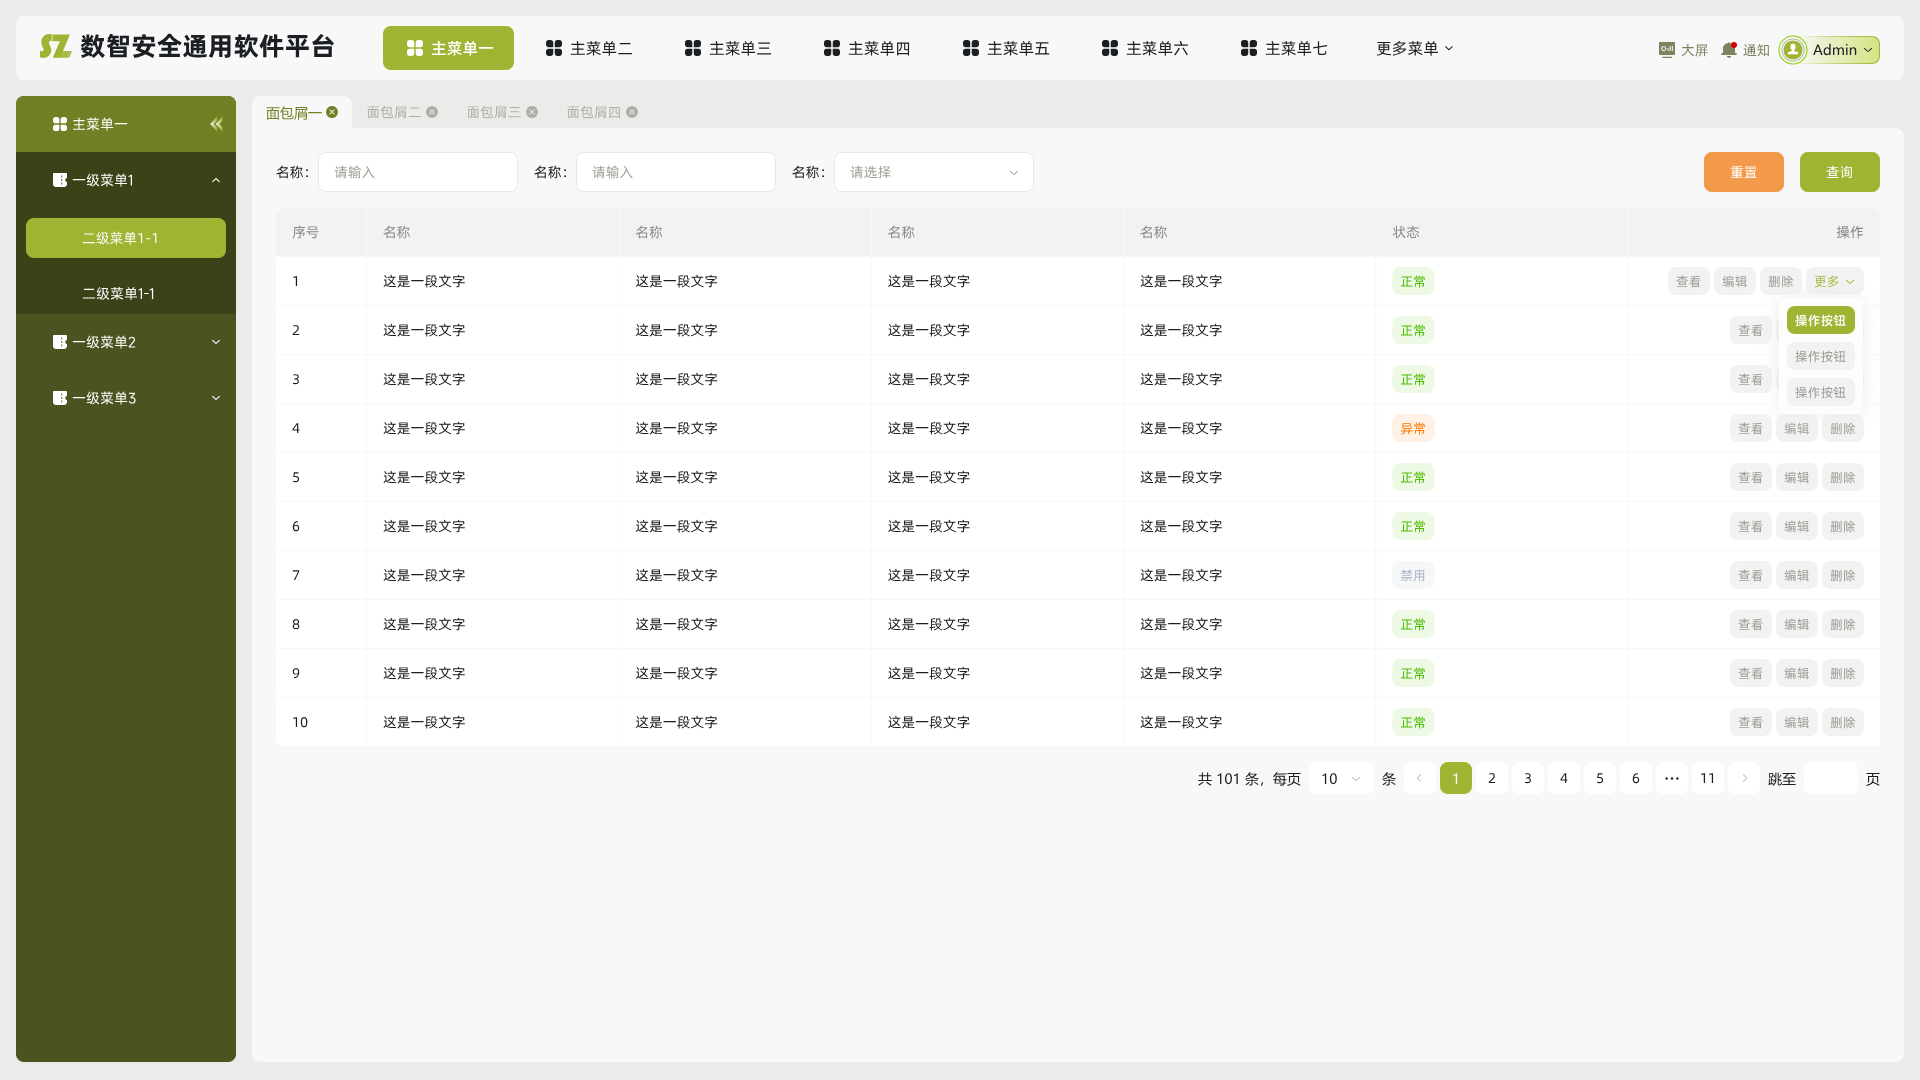label-input-input: (833, 149, 1039, 197), (317, 149, 522, 197), (573, 150, 779, 195)
label-input-label: (272, 163, 315, 183), (532, 163, 569, 184), (793, 162, 831, 181)
query-btn: (1795, 143, 1895, 197)
reset-btn: (1701, 143, 1788, 201)
table: (268, 206, 1889, 808)
